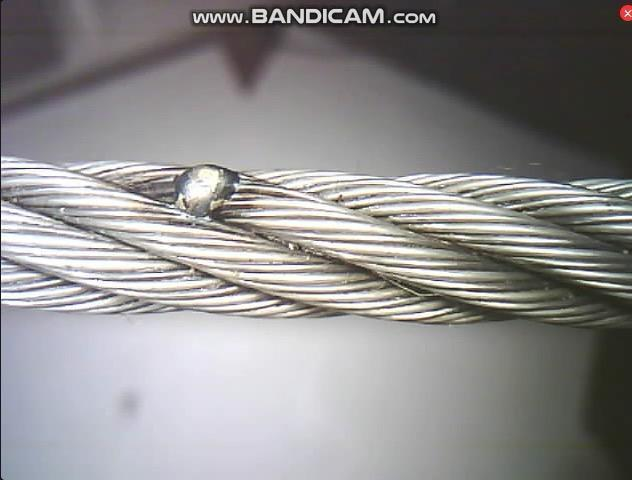thunderbolt: (154, 155, 280, 231)
